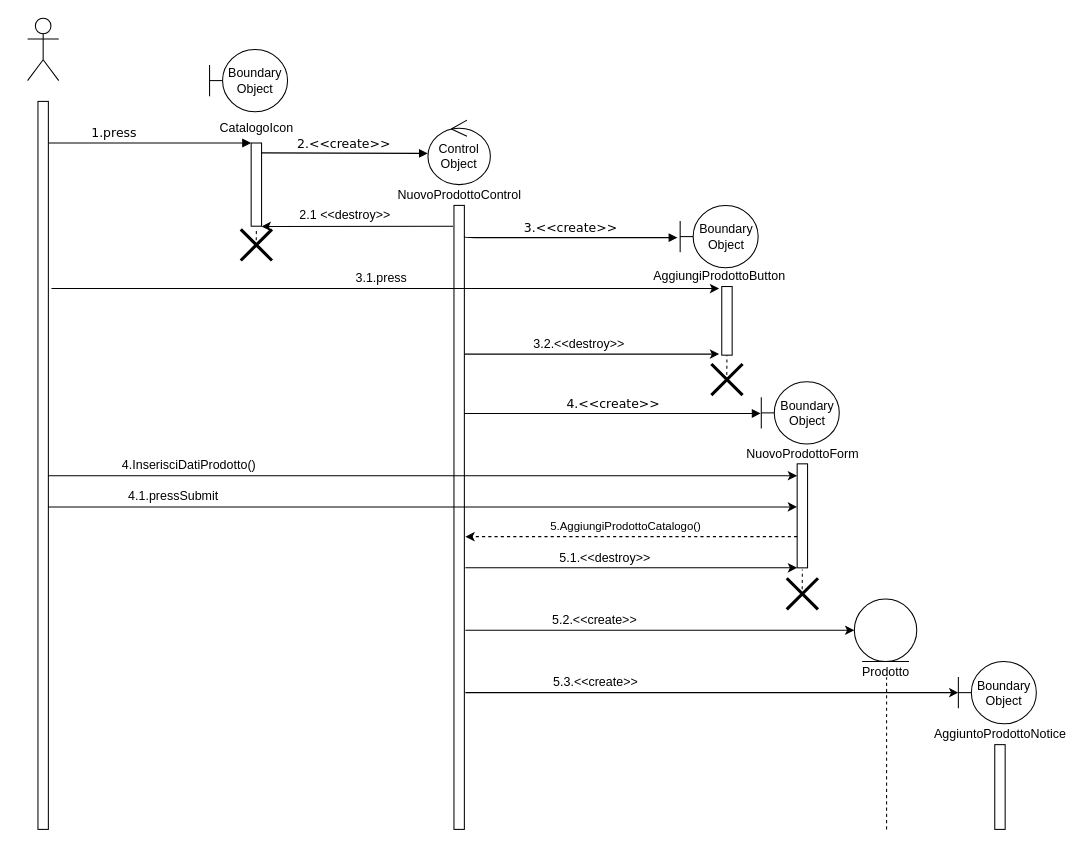
This 1091x849 diagram has some shape labels left out. The shapes that lost their labels are listed below. From the top down, each one's centre as x and y in pixels, then its label:
the point at 43,49: Fornitore
the point at 885,629: Entity Object
